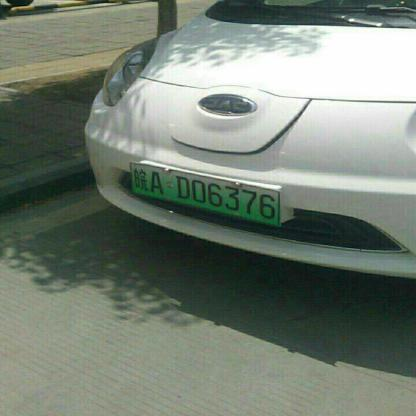lp: (128, 162, 280, 226)
